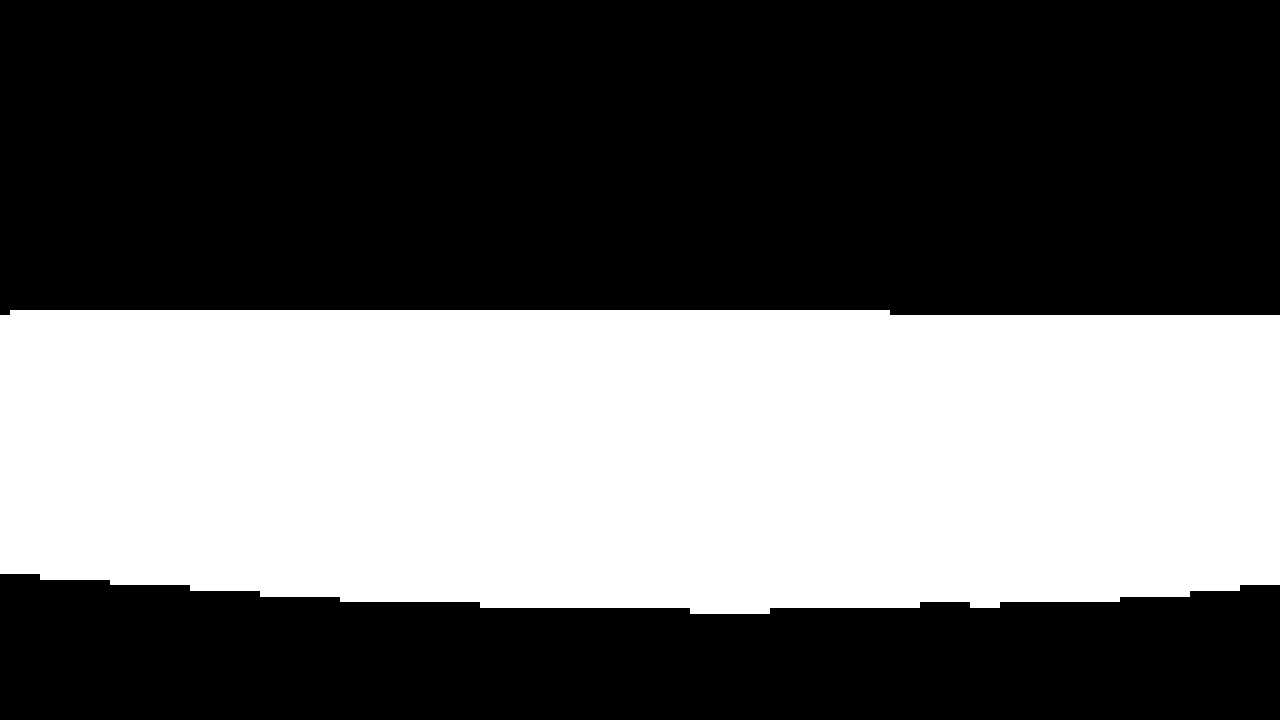Turbine: (8, 285, 1280, 613)
